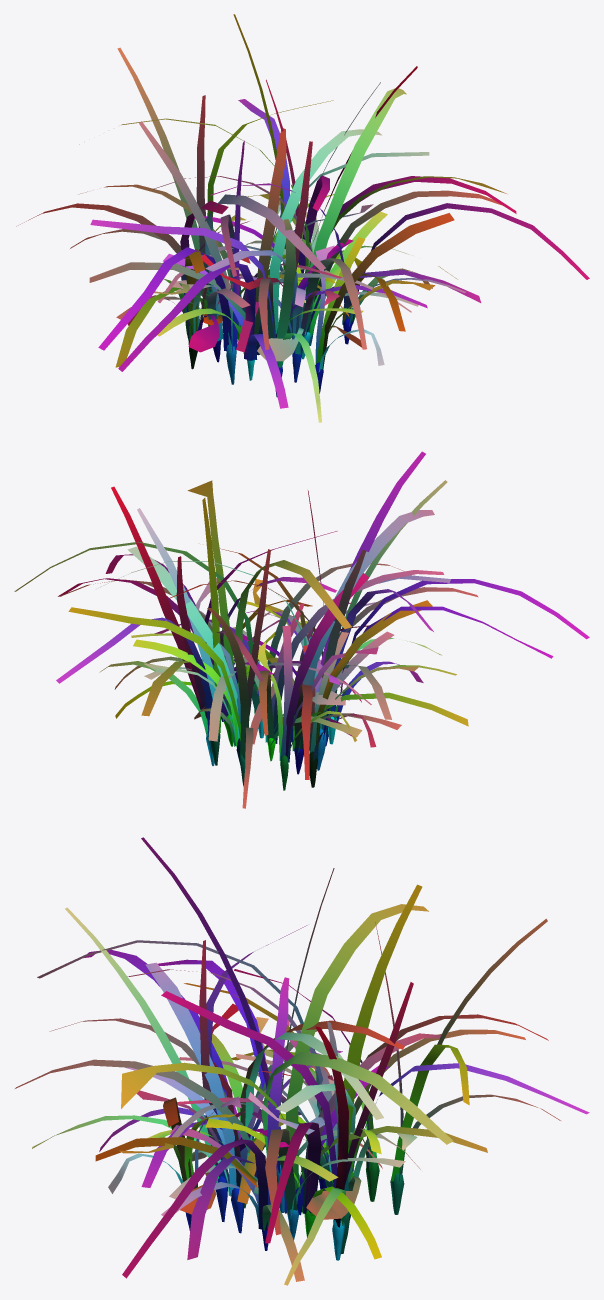
Rendered from Ribbon_Grass_tbdpec3r_Low_tbdpec3r_VarC_LOD0.fbx.
3 renders of one model, top to bottom at view 1: azimuth 30°, elevation 25°; view 2: azimuth 150°, elevation 25°; view 3: azimuth 270°, elevation 25°, orthographic. The views are drawn at different scales.
Parts seen in each view (by area): view 1: _bdd8_VarC_LOD1; view 2: _bdd8_VarC_LOD1; view 3: _bdd8_VarC_LOD1.
Part boxes in pixels (x1,y1,x2,y2): _bdd8_VarC_LOD1: [16, 14, 589, 422]; _bdd8_VarC_LOD1: [14, 451, 589, 808]; _bdd8_VarC_LOD1: [15, 837, 589, 1285].
Size of the model in its own units: 60.5 by 37.33 by 53.46.
